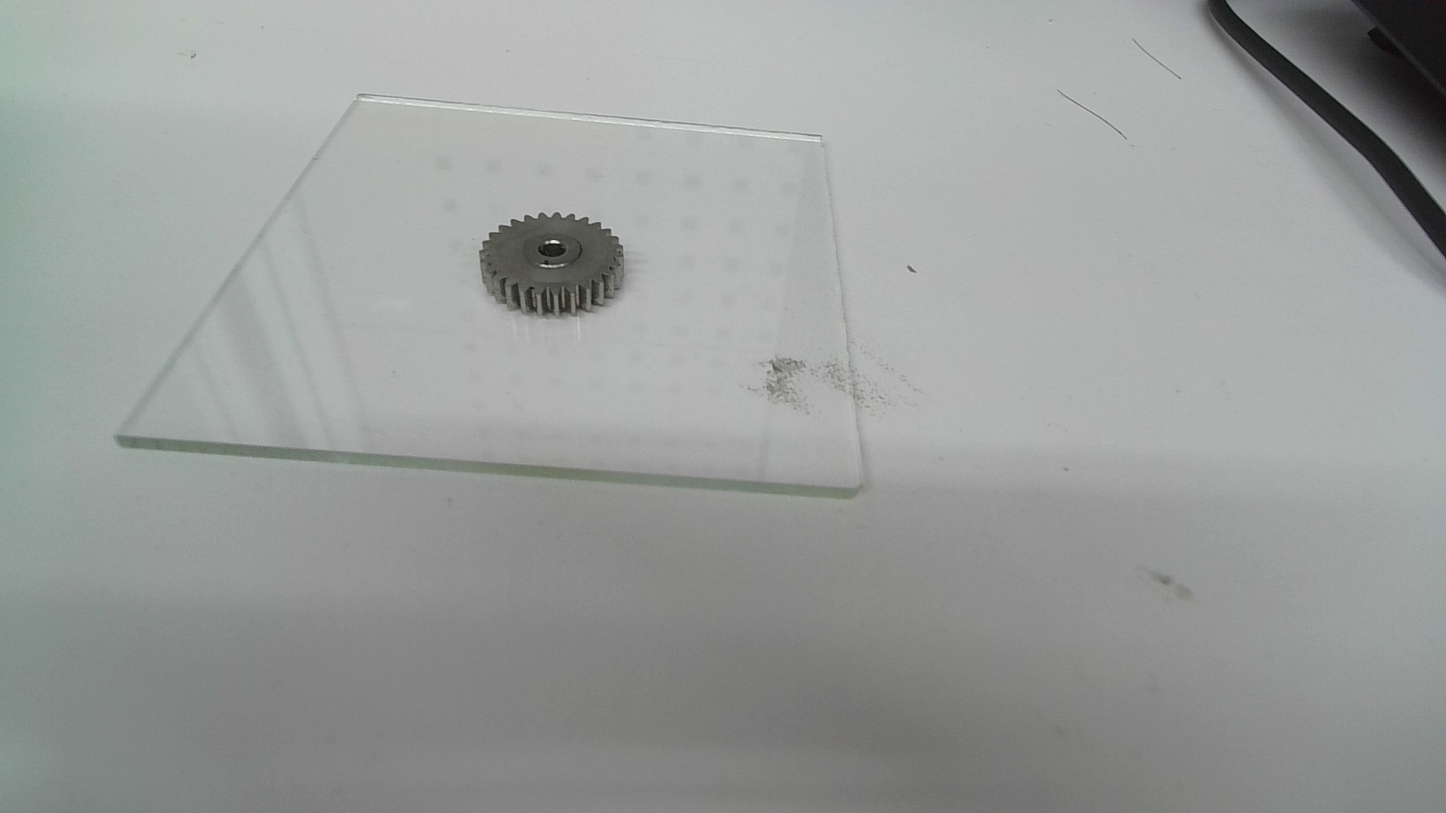gear: (477, 210, 628, 318)
